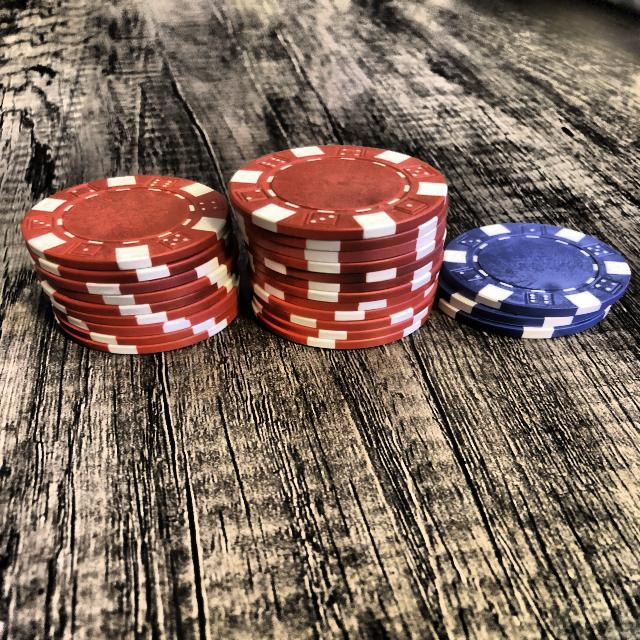Chip: (227, 144, 451, 352), (20, 173, 241, 356), (432, 221, 632, 339)
